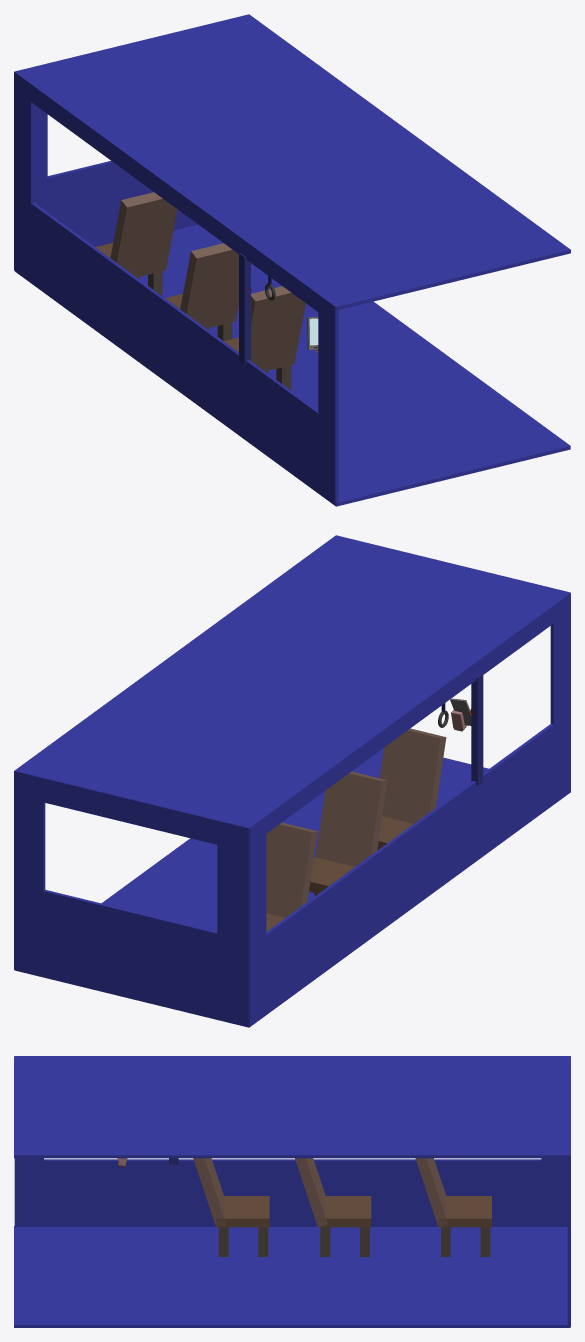
Rendered from bus.3bc8dab1.glb.
The picture shows the model from 3 angles, top to bottom: view 1: azimuth 30°, elevation 25°; view 2: azimuth 150°, elevation 25°; view 3: azimuth 270°, elevation 25°; orthographic projection. The views are drawn at different scales.
Visible parts, largest first — view 1: 큐브.001, Cube, 큐브.027, 큐브.008, 큐브.022, 큐브.019, 큐브.010, 큐브.007; view 2: 큐브.001, Cube, 큐브.008, 큐브.027, 큐브.019, 큐브.010, 큐브.022, 큐브.007, 큐브.020; view 3: 큐브.001, 큐브.027, Cube, 큐브.009, 큐브.021, 큐브.020, 큐브.022, 큐브.019, 큐브.010, 큐브.008.
Part boxes in pixels (box(x1,y1,x2,y2)): 큐브.001: box(18, 14, 570, 310); Cube: box(14, 71, 338, 505); 큐브.027: box(15, 224, 570, 506); 큐브.008: box(17, 14, 248, 246); 큐브.022: box(110, 192, 177, 276); 큐브.019: box(180, 243, 238, 327); 큐브.010: box(251, 286, 305, 370); 큐브.007: box(239, 253, 250, 365); 큐브.001: box(14, 535, 570, 827); Cube: box(246, 592, 570, 1026); 큐브.008: box(14, 771, 248, 1026); 큐브.027: box(15, 748, 570, 1027); 큐브.019: box(315, 771, 387, 866); 큐브.010: box(379, 728, 446, 823); 큐브.022: box(266, 822, 317, 917); 큐브.007: box(471, 674, 483, 785); 큐브.020: box(309, 857, 354, 893); 큐브.001: box(14, 1056, 570, 1158); 큐브.027: box(14, 1226, 570, 1327); Cube: box(14, 1056, 570, 1226); 큐브.009: box(216, 1196, 269, 1227); 큐브.021: box(438, 1196, 491, 1227); 큐브.020: box(317, 1196, 371, 1227); 큐브.022: box(415, 1158, 447, 1226); 큐브.019: box(295, 1158, 327, 1226); 큐브.010: box(193, 1158, 225, 1226); 큐브.008: box(567, 1056, 570, 1327).
Size of the model in its own units: 11.29 by 9.1 by 26.6.
